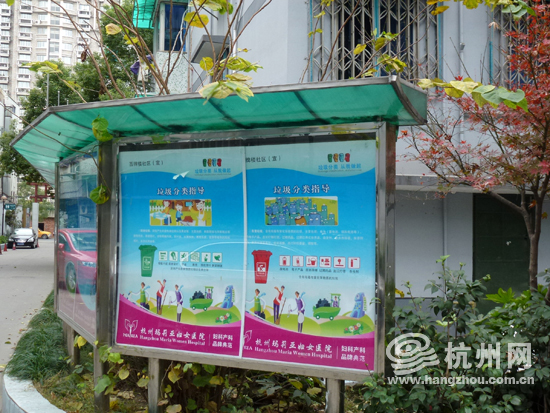bill: (243, 142, 375, 372), (117, 146, 244, 361)
